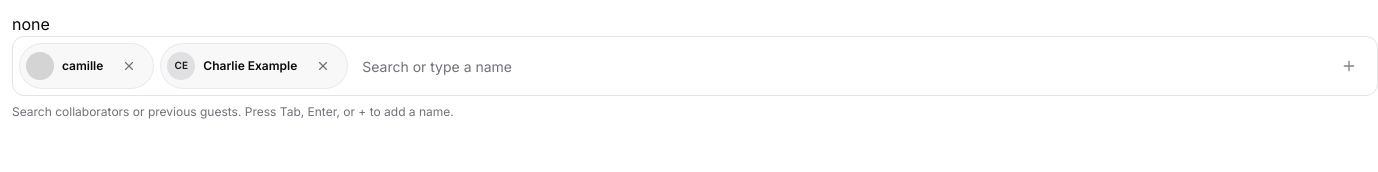
MeetingParticipantPicker › clears the guest steward when the participant is removed
Step 1. Click the button with aria-label "Make Charlie Example steward / facilitator" → (235, 66), box x1=165 y1=48 x2=305 y2=84
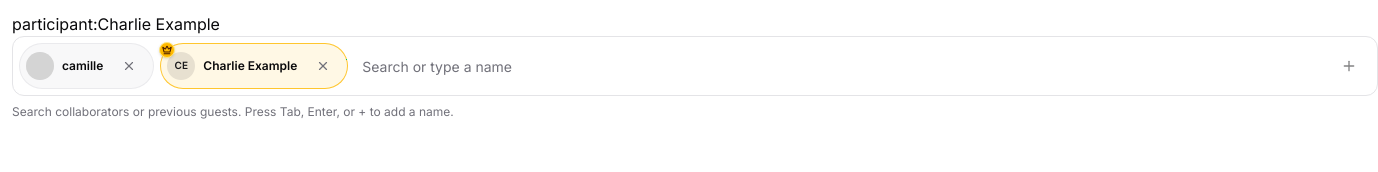
Check: the text with test id "steward-reference" reads "participant:Charlie Example", box x1=12 y1=14 x2=220 y2=34
Step 2. Click the button named "Remove Charlie Example" → (323, 66), box x1=305 y1=48 x2=341 y2=84
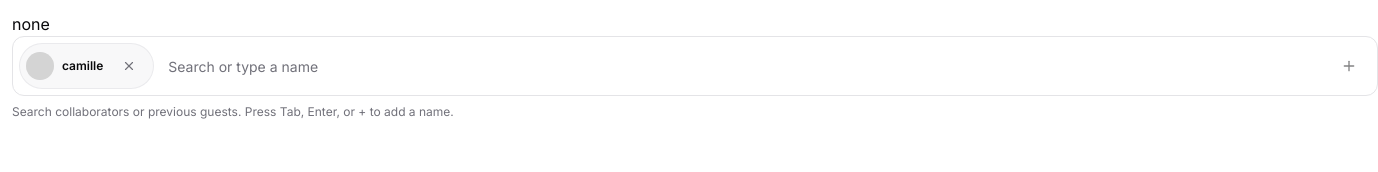
Check: the text with test id "steward-reference" reads "none", box x1=12 y1=14 x2=50 y2=34
